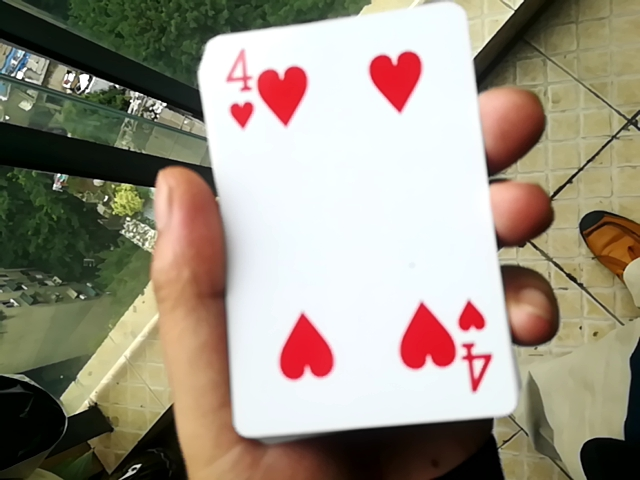hx 4: (187, 12, 513, 439)
